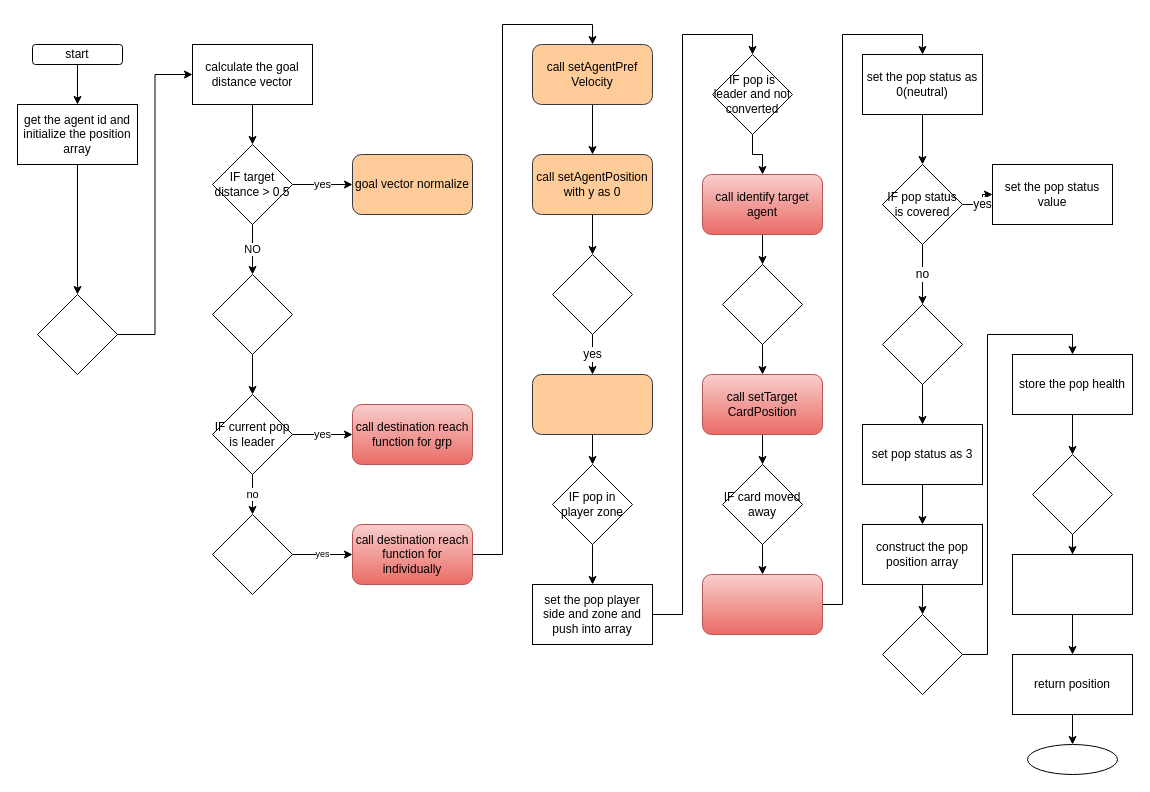
Some shapes in this 1150 by 792 pixel diagram are drawn without their labels. Here are the shapes that lost their labels. From the top down, the centre of each, then its label:
(252,314): ELSE
(592,294): IF player zone not undefined
(762,304): IF target is not empty
(77,334): IF pop is not rest agent
(922,344): ELSE IF pop ticket value <= 0
(592,404): call polygon lookup search for pop
(1072,494): IF reaction anim is not NA
(252,554): ELSE IF pop is child and not grp mode
(762,604): call reSetTarget
(1072,584): reset into NA
(922,654): IF pop is leader
(1072,759): end
